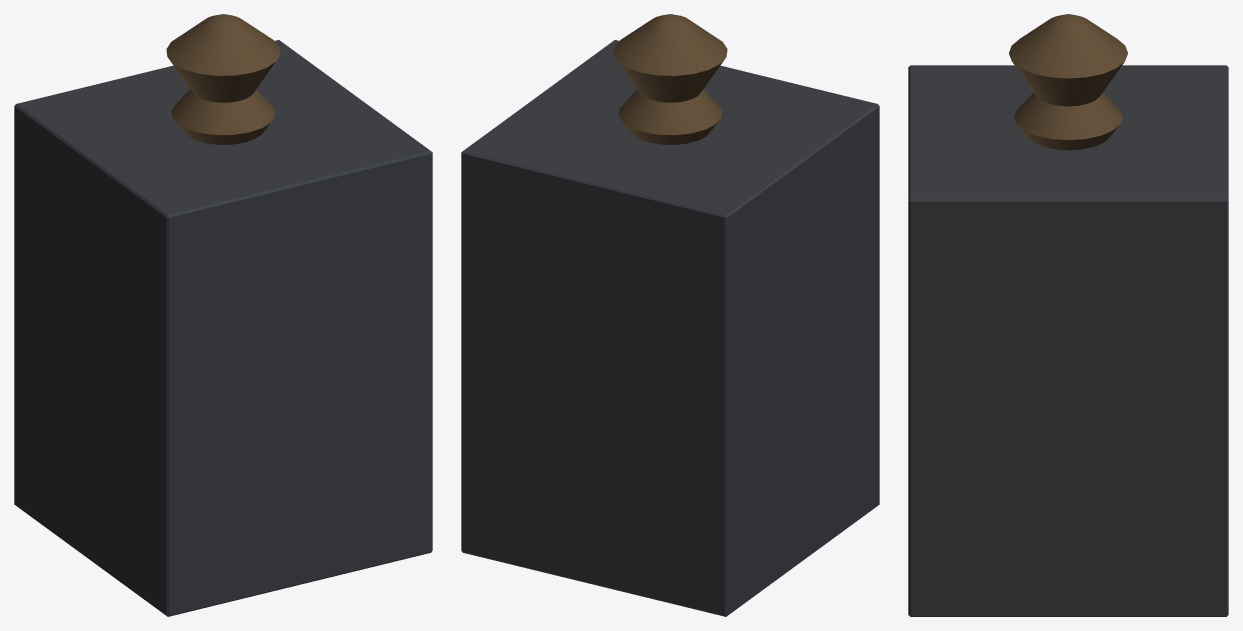
The model's file is prop_plinth_sculpture_a.glb.
3 views of the same model, side by side, from view 1: azimuth 30°, elevation 25°; view 2: azimuth 150°, elevation 25°; view 3: azimuth 270°, elevation 25° (orthographic). The views are drawn at different scales.
Parts seen in each view (by area): view 1: Plinth; view 2: Plinth; view 3: Plinth.
Boxes of the visible parts, x1,y1,x2,y2 form: Plinth: (14, 14, 432, 616); Plinth: (461, 14, 879, 616); Plinth: (908, 14, 1228, 616).
Size of what is drawn, in the model's own units: 0.59 by 1.09 by 0.59.
